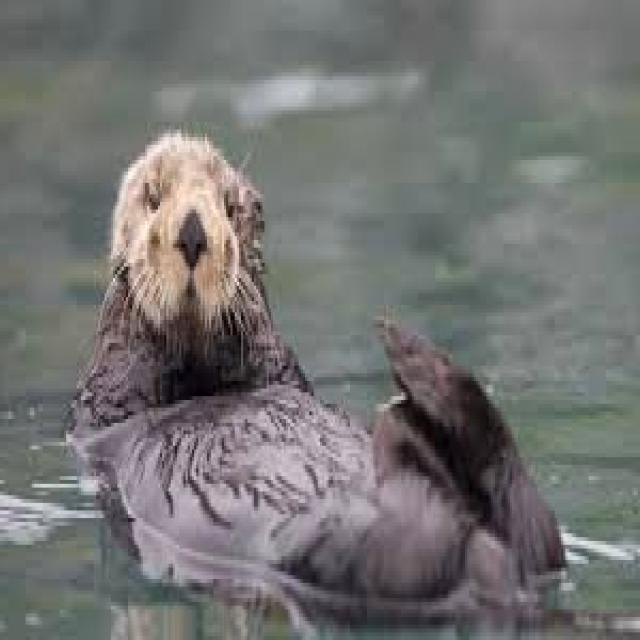otter: (70, 130, 565, 636)
